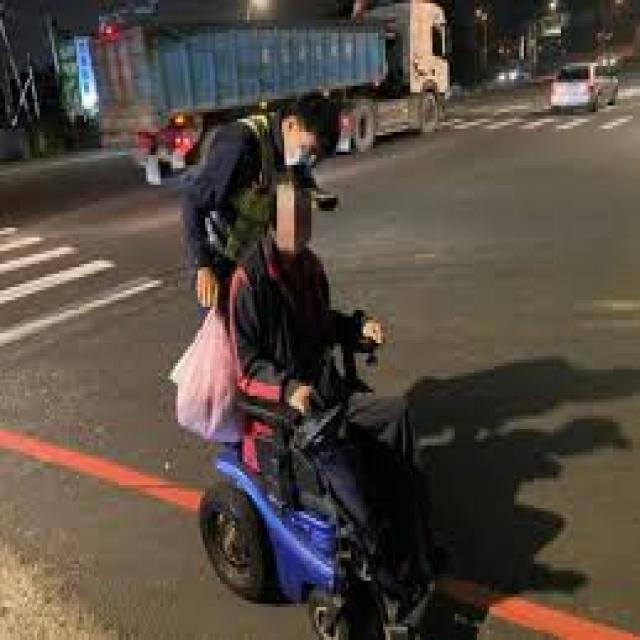wheelchairs: (198, 264, 452, 637)
